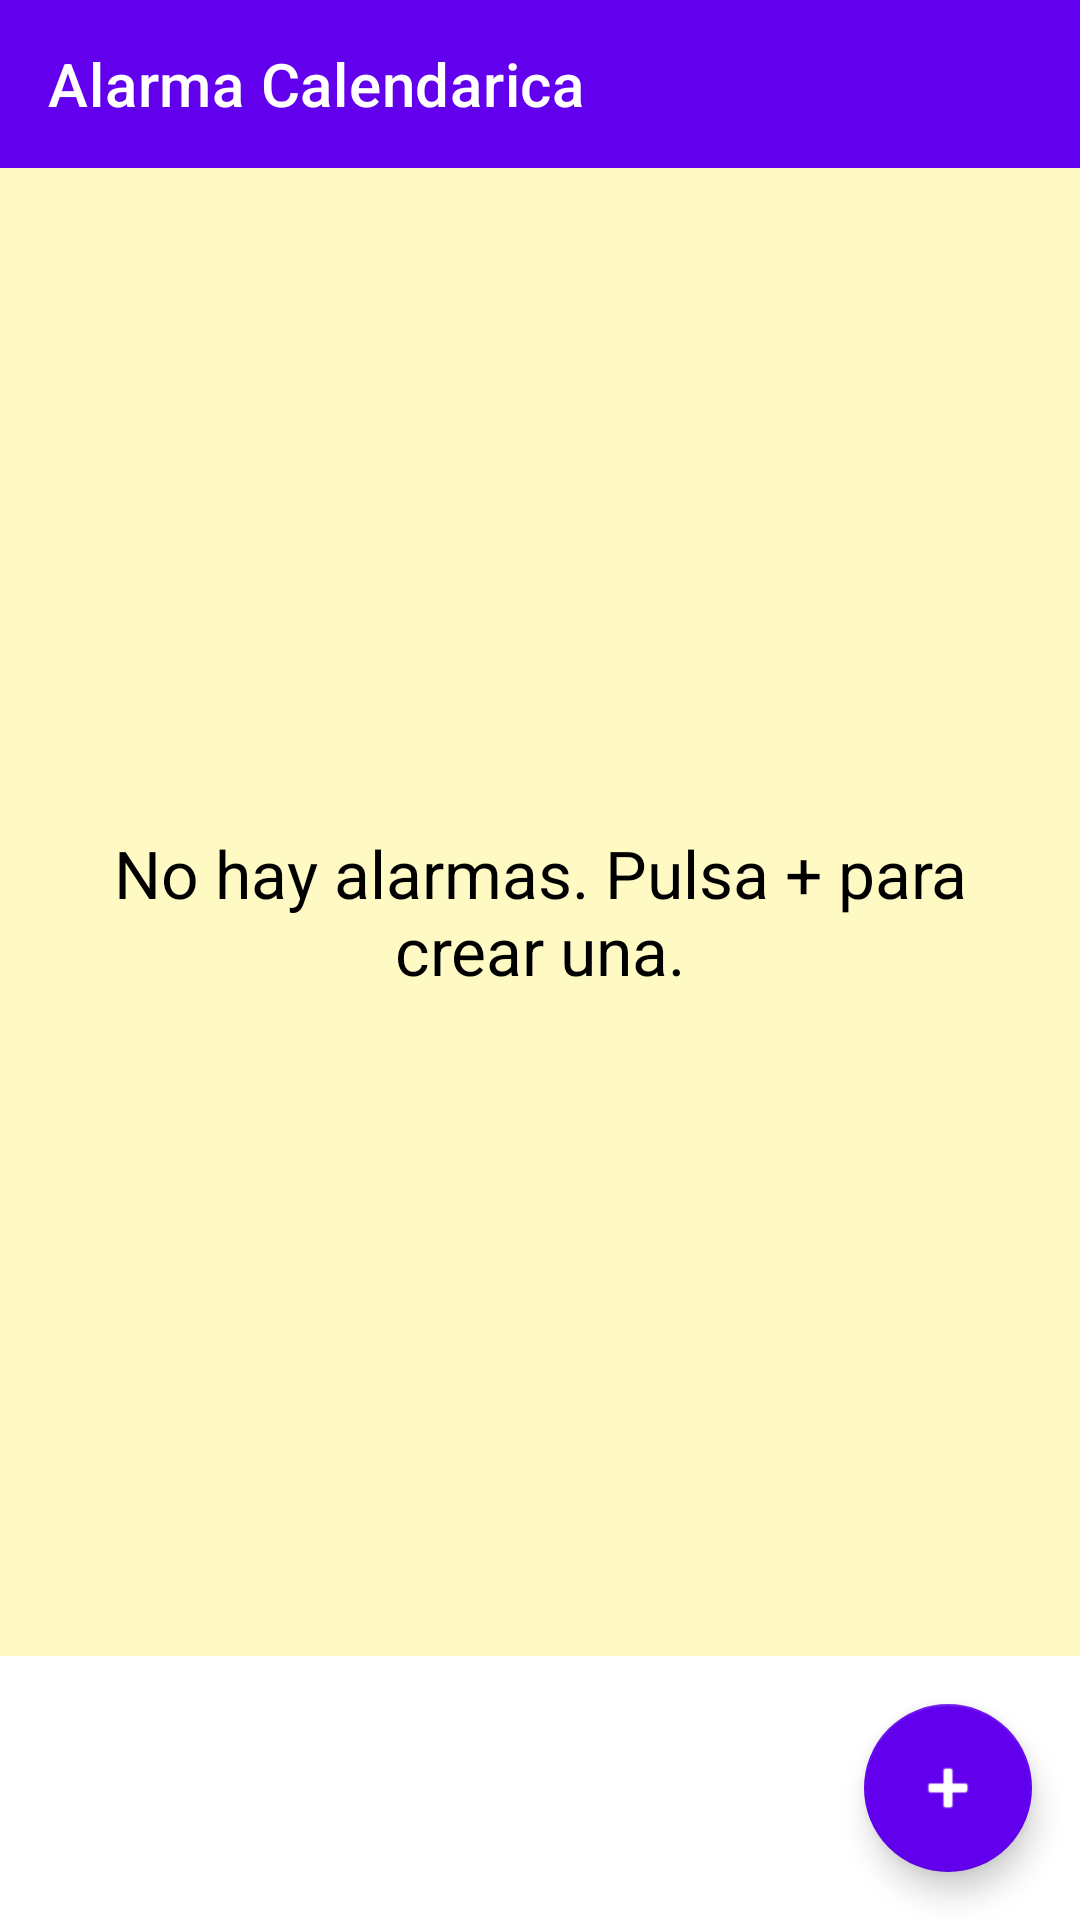

Where icons sit on this 1080 x 1920 app screen, as (x1, y1, x2, y2):
Agregar alarma: (864, 1704, 1032, 1872)
